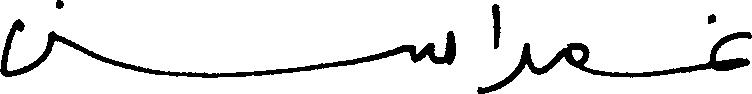X: (0, 14, 53, 81), (711, 9, 751, 75), (500, 22, 528, 93), (411, 26, 454, 69), (565, 38, 588, 77), (492, 0, 498, 93)
